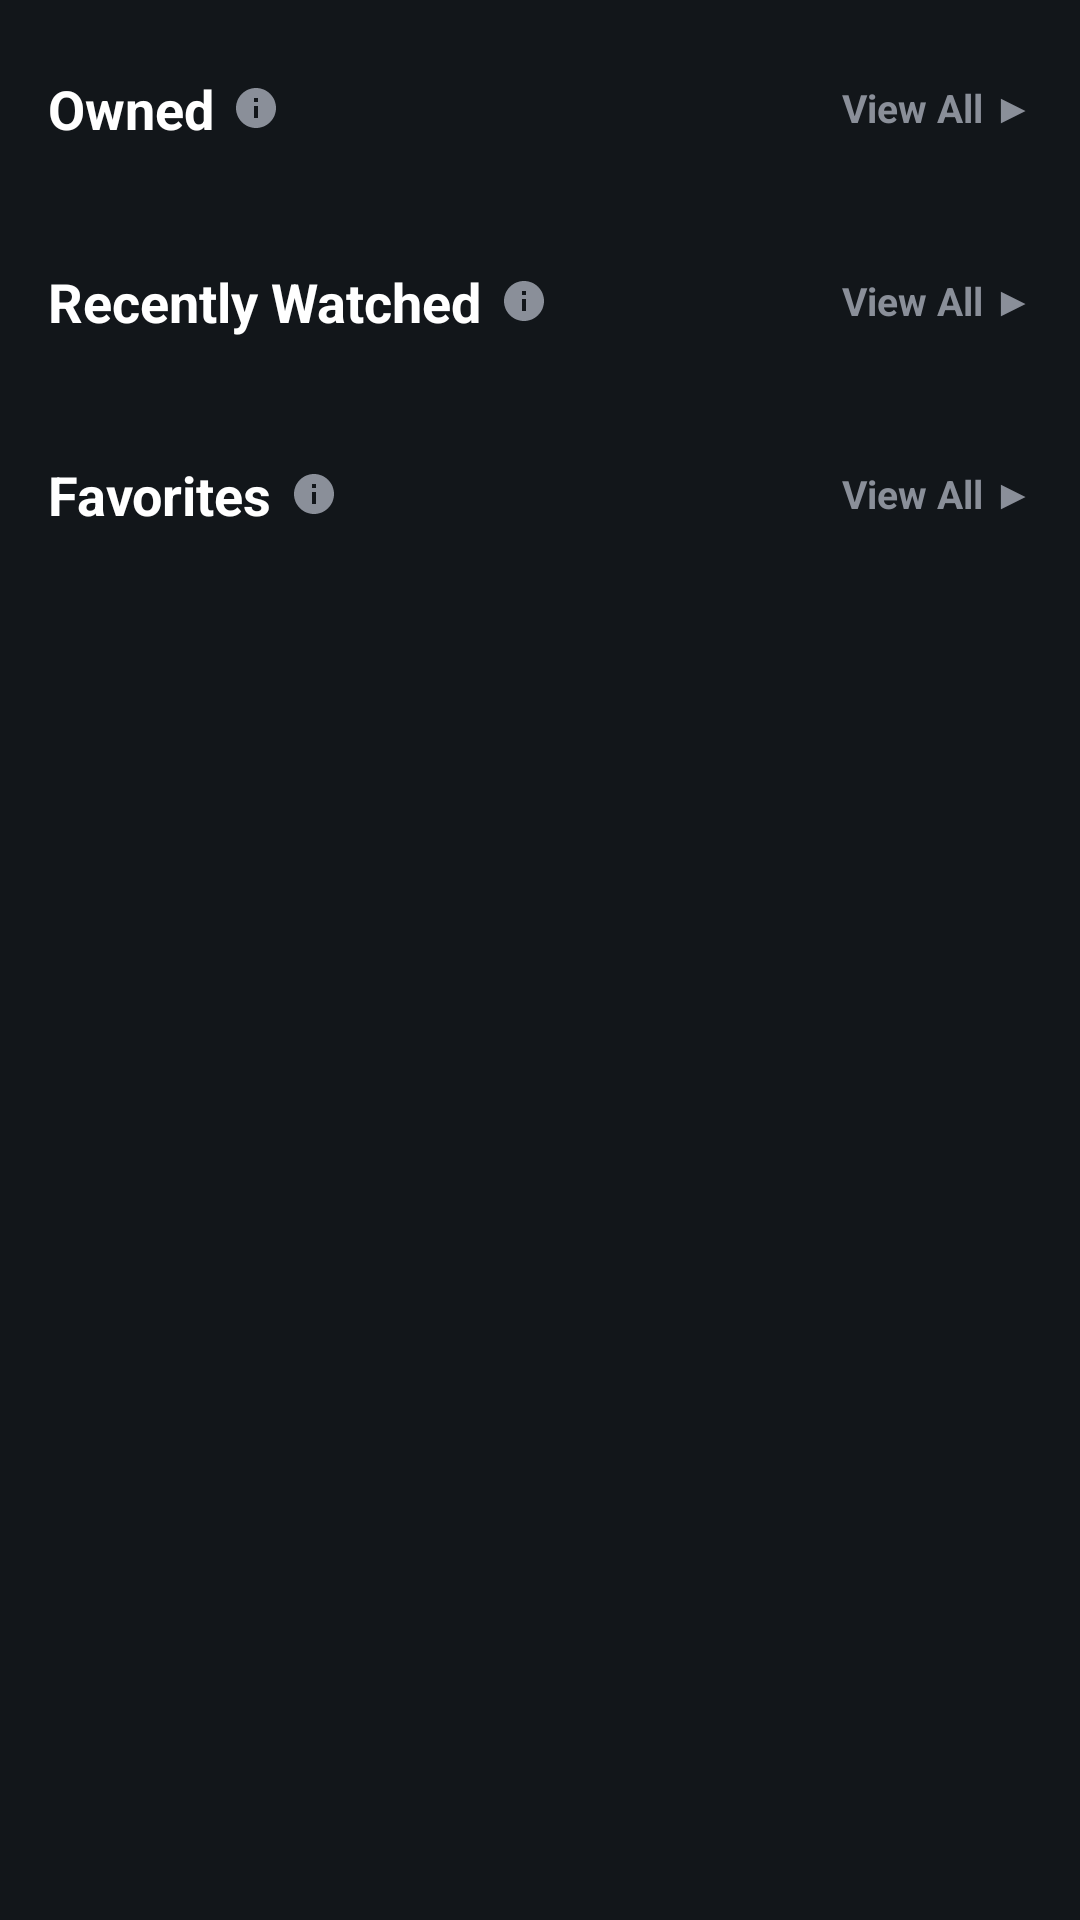

Screen size 1080w x 1920h. Icon name, then its box in pixels as (x1, y1, x2, y2):
Info: (236, 88, 276, 128), (504, 281, 544, 321), (294, 474, 334, 514)
